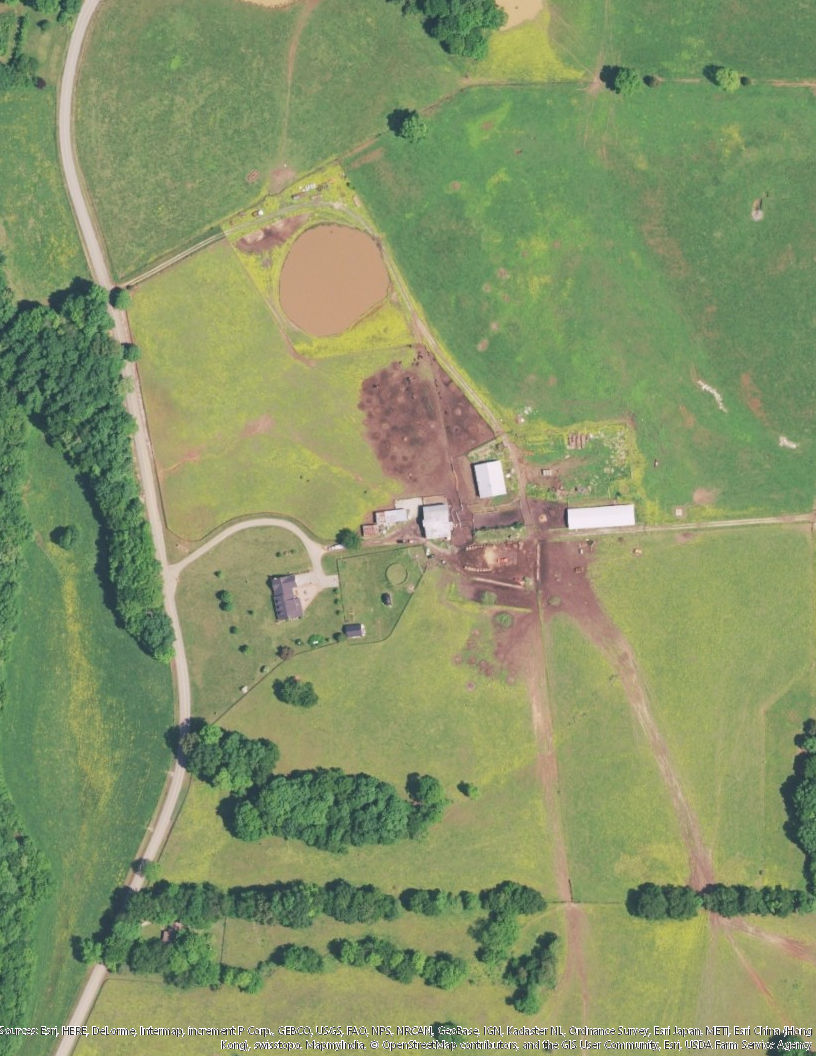cafo: (357, 490, 455, 546), (549, 498, 642, 536)
